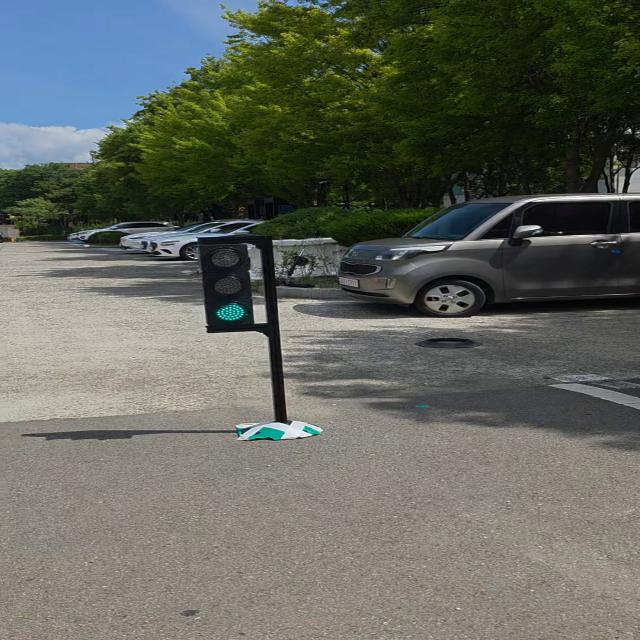green: (198, 239, 256, 331)
